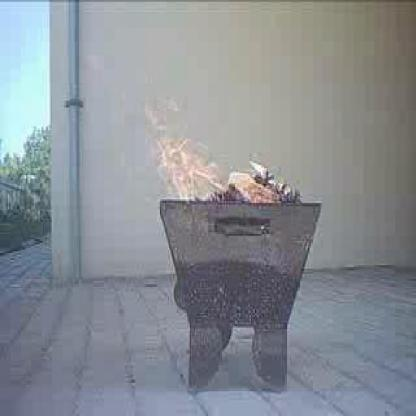fire: (142, 101, 230, 201)
